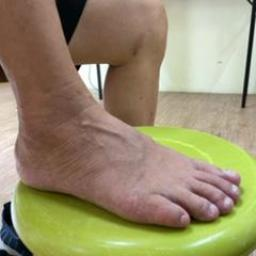Lateral View -Right Foot-: (1, 75, 252, 243)
